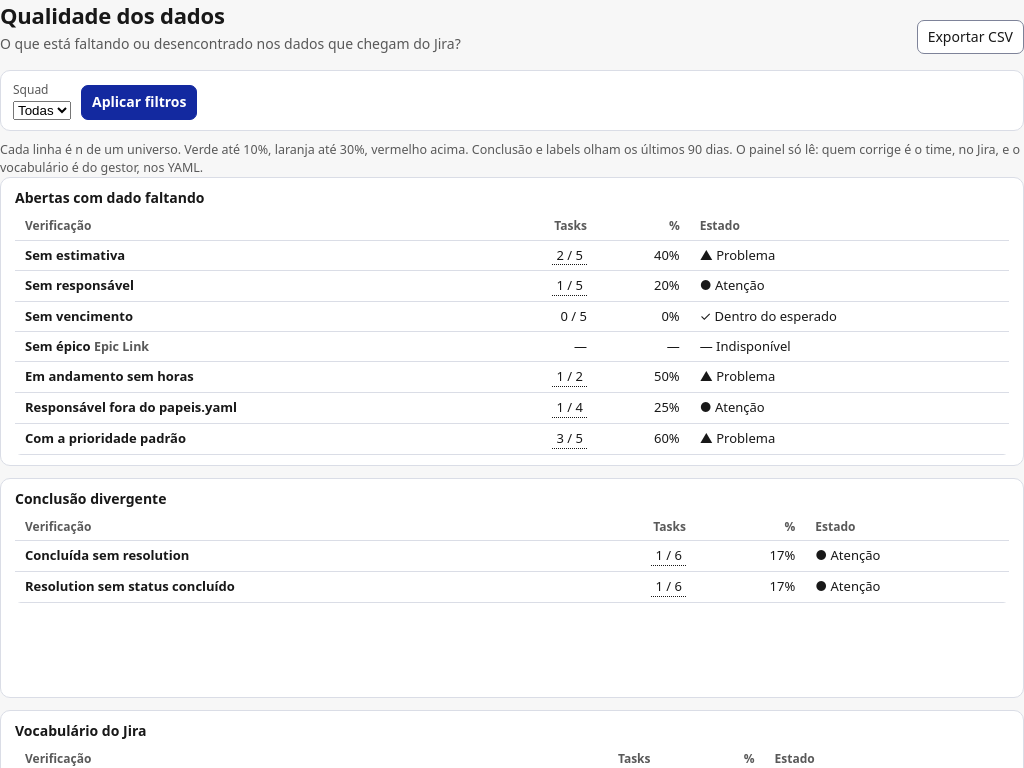
Test: tela Qualidade dos dados › numeroAbreAGavetaDoMesmoCartao
Expected: the table named "Abertas com dado faltando" is shown, [15,212,1009,455]
Click the button named "Sem estimativa: 2": (570, 255) [552,246,587,265]
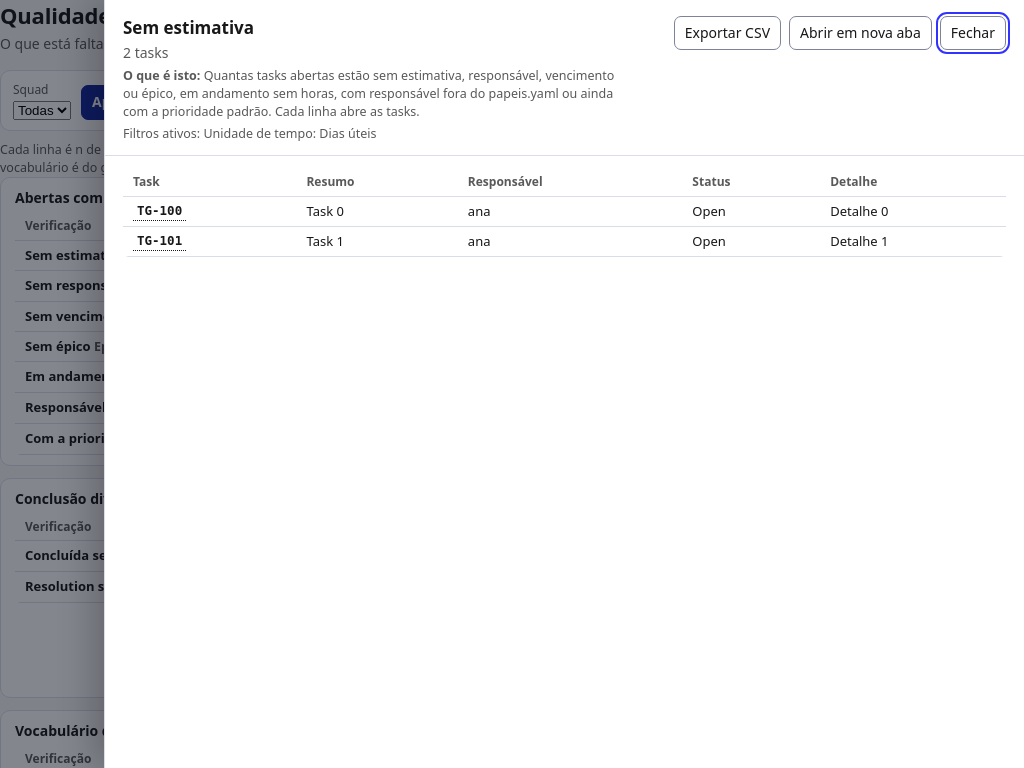
Expected: the dialog is shown
